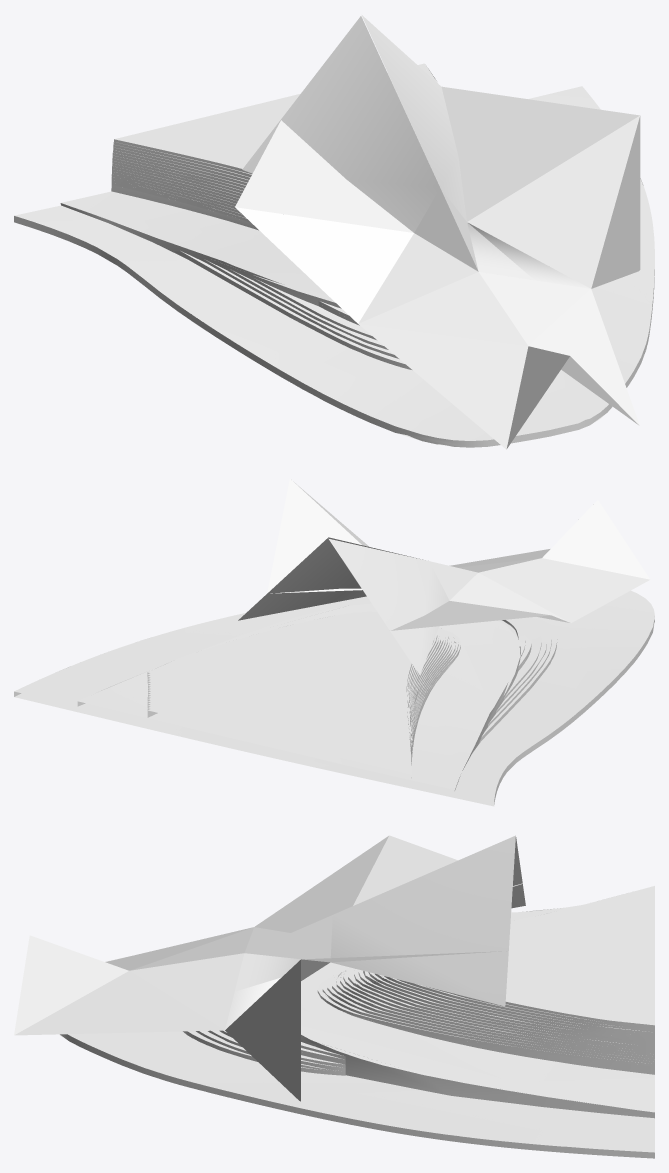
File: teahouse_s.glb
The picture shows the model from 3 angles, top to bottom: view 1: azimuth 30°, elevation 25°; view 2: azimuth 150°, elevation 25°; view 3: azimuth 270°, elevation 25°; orthographic projection. The views are drawn at different scales.
Parts seen in each view (by area): view 1: teahouse_s; view 2: teahouse_s; view 3: teahouse_s.
Boxes of the visible parts, x1=… form: teahouse_s: x1=14, y1=15, x2=654, y2=449; teahouse_s: x1=14, y1=479, x2=654, y2=806; teahouse_s: x1=14, y1=835, x2=654, y2=1158.
Size of the model in its own units: 0.45 by 0.1693 by 0.4774.
Materials: 2 (2 with a texture image).
